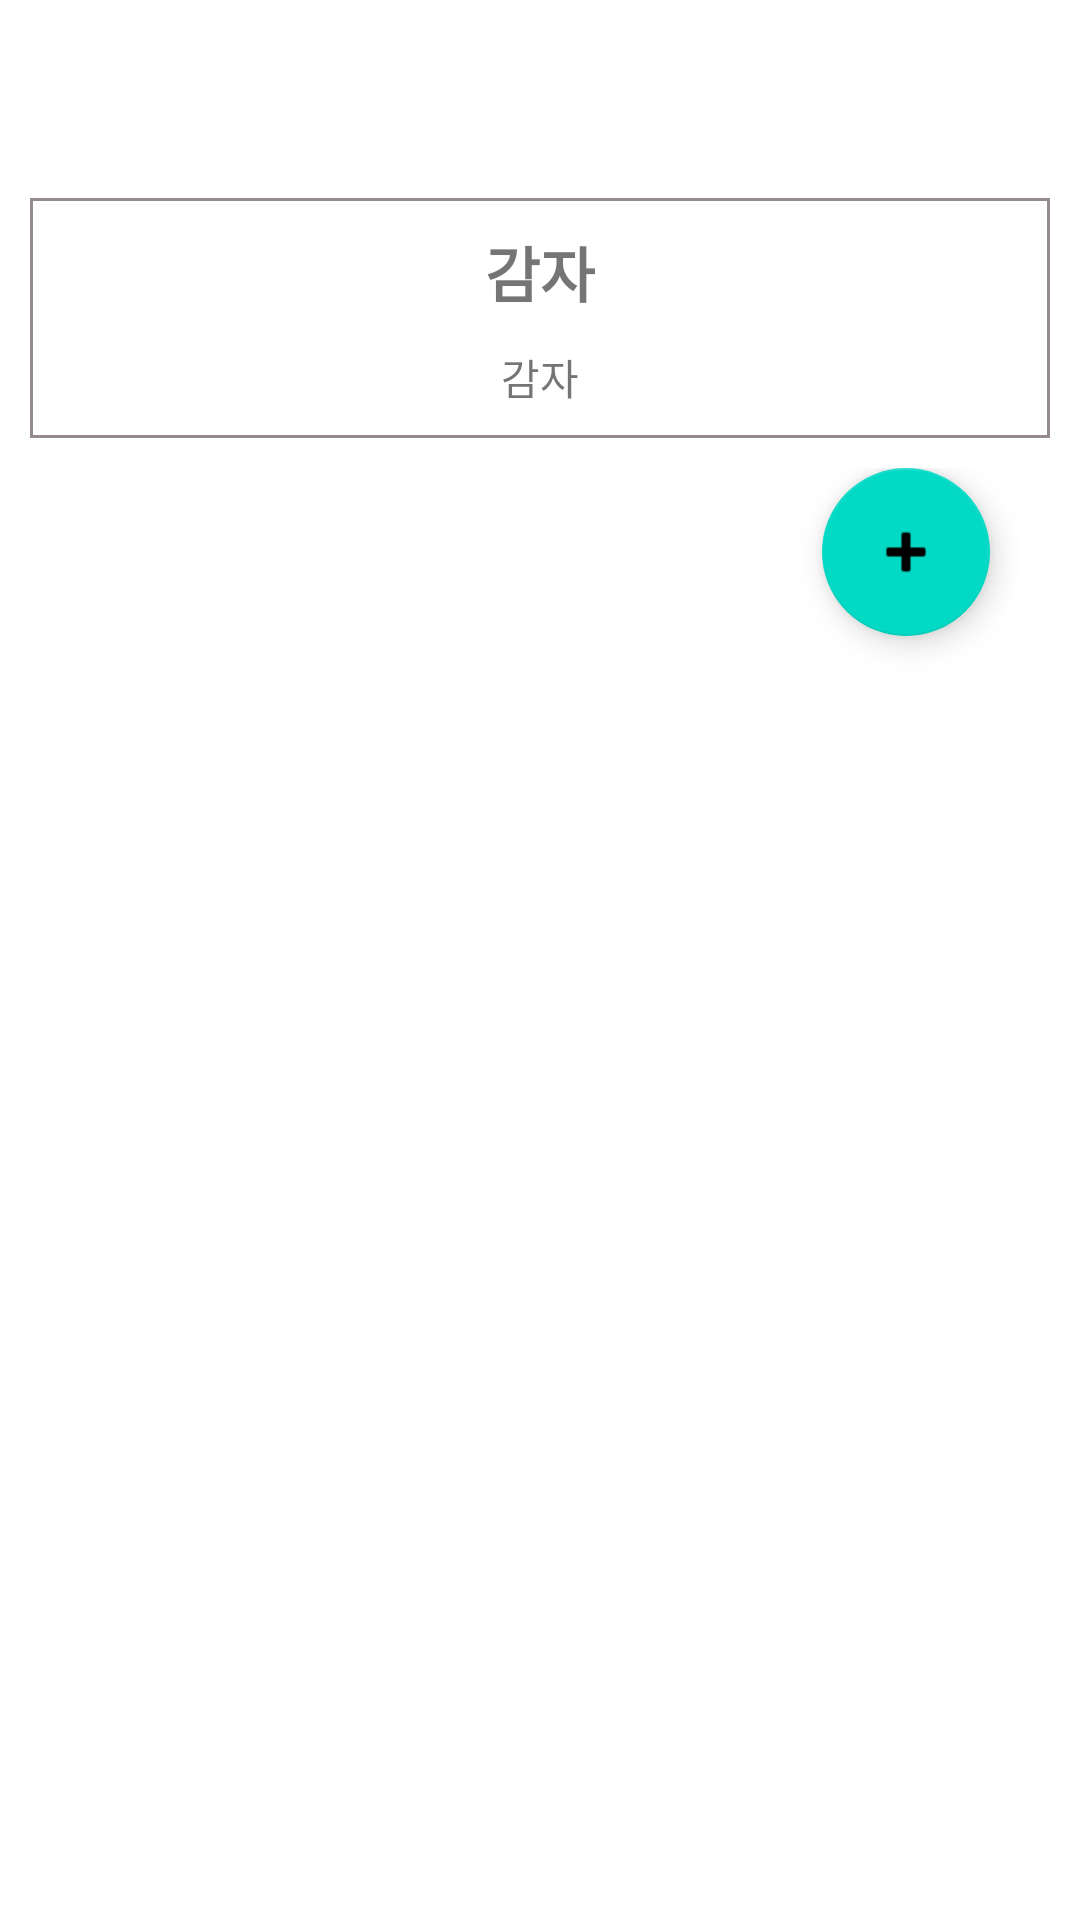

Locate icon controls on the screen. Image size 1080px x 1920px, boxes as [x1=x1, y1=y1, x2=x2, y2=y2].
add: [x1=822, y1=468, x2=990, y2=636]
